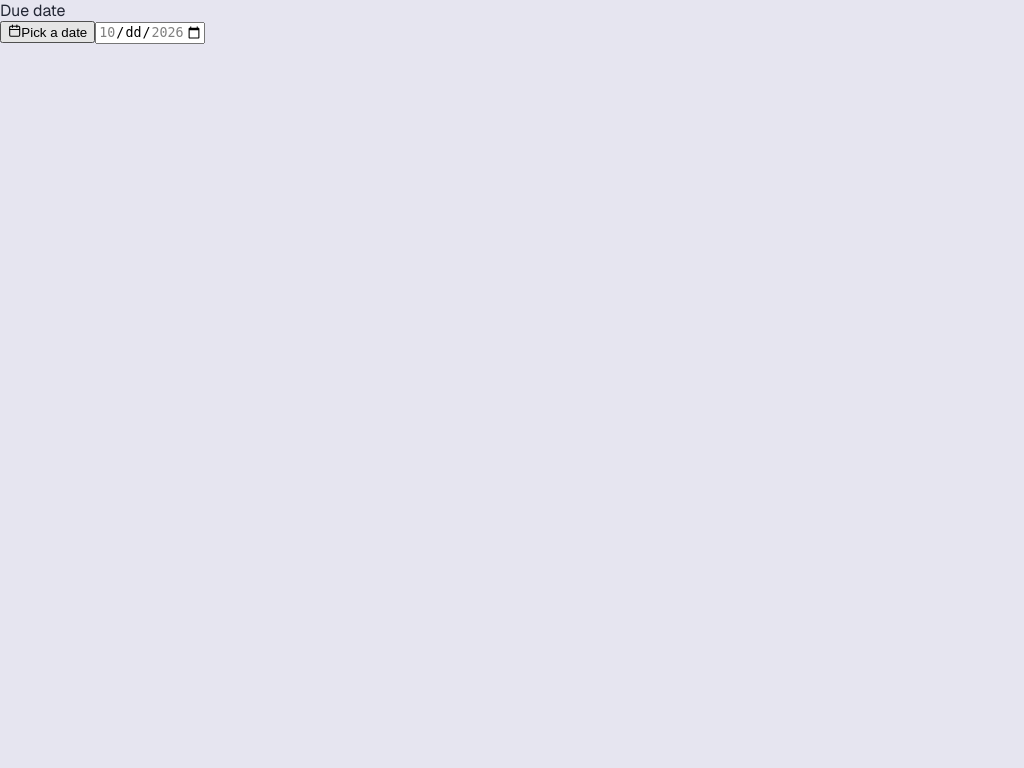
Scenario: disables days outside limits
Later steps or results of the test are not shown.
Click the dropdown with id "due" at (48, 32), box x1=0 y1=21 x2=95 y2=43
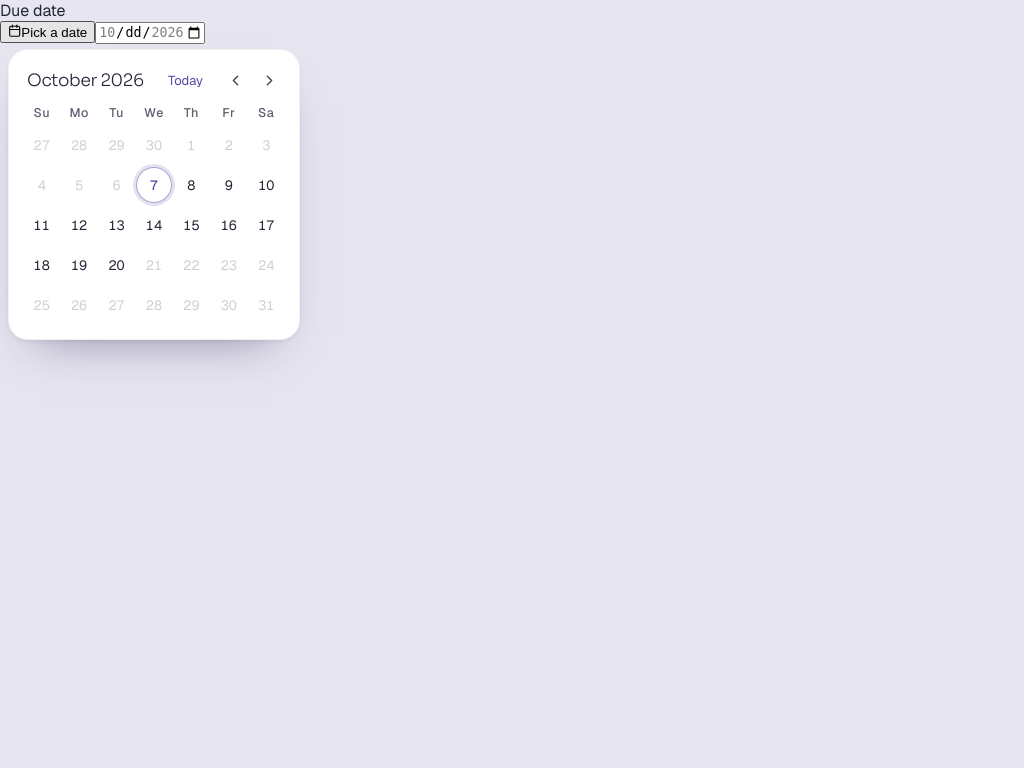
Click the button "6" at (116, 185), box x1=98 y1=167 x2=134 y2=203
Click the button "21" at (154, 265), box x1=136 y1=247 x2=172 y2=283
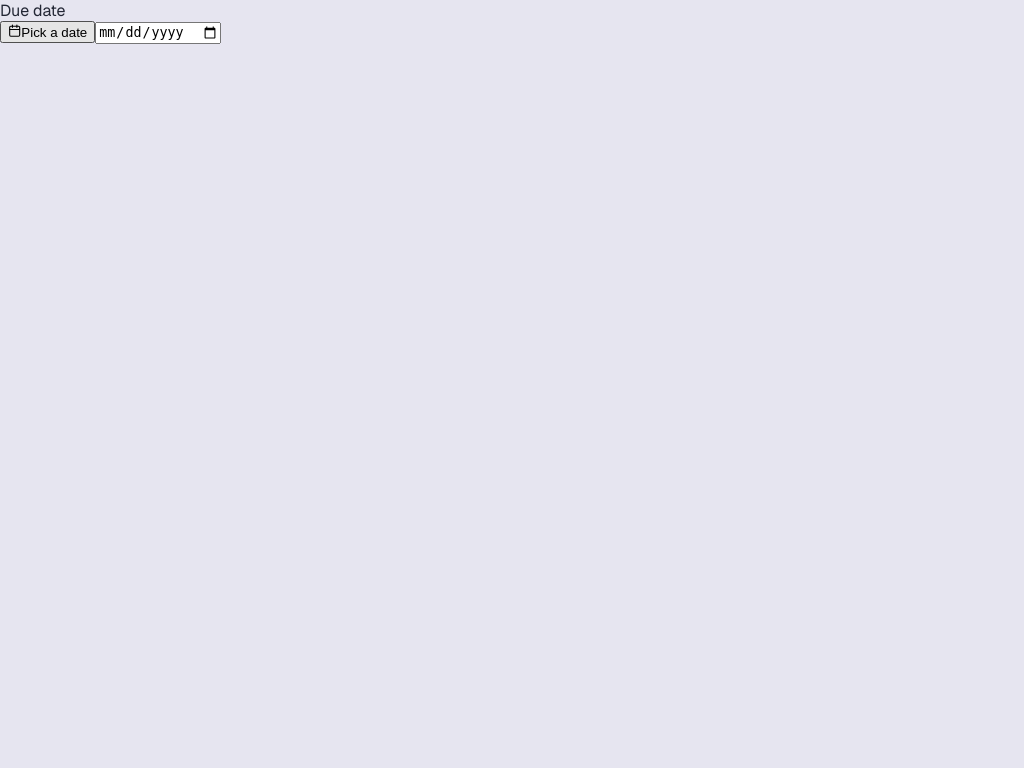
Click the dropdown with id "due" at (48, 32), box x1=0 y1=21 x2=95 y2=43
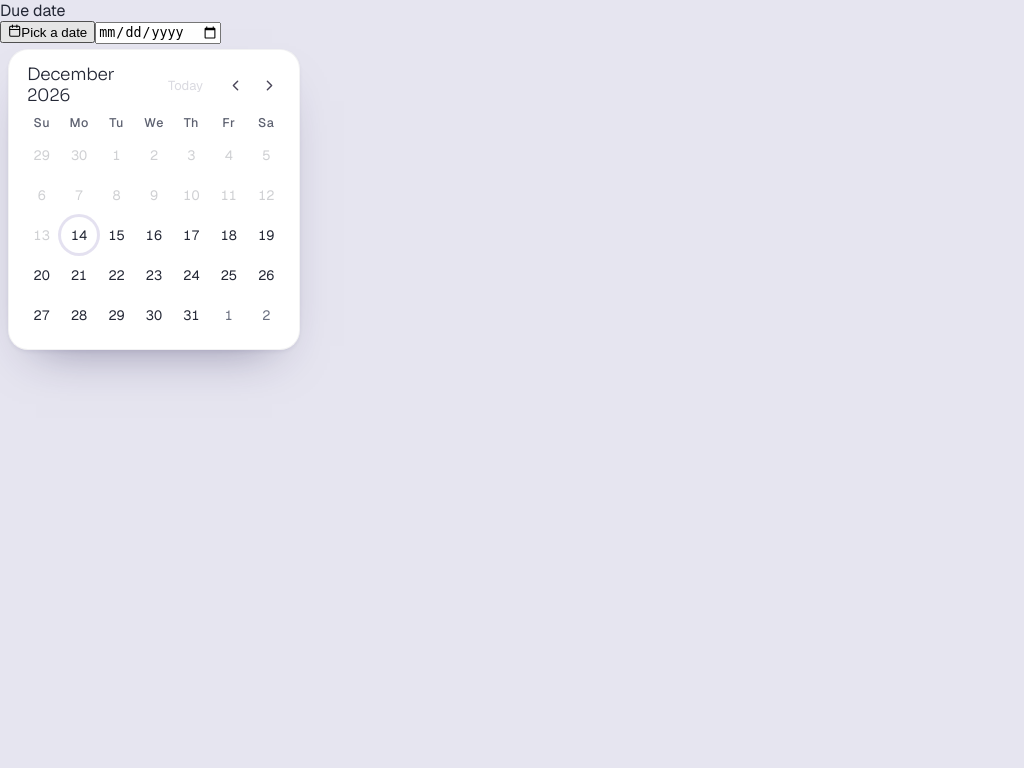
Expected: the heading "December 2026" is shown, x1=27 y1=64 x2=114 y2=106
